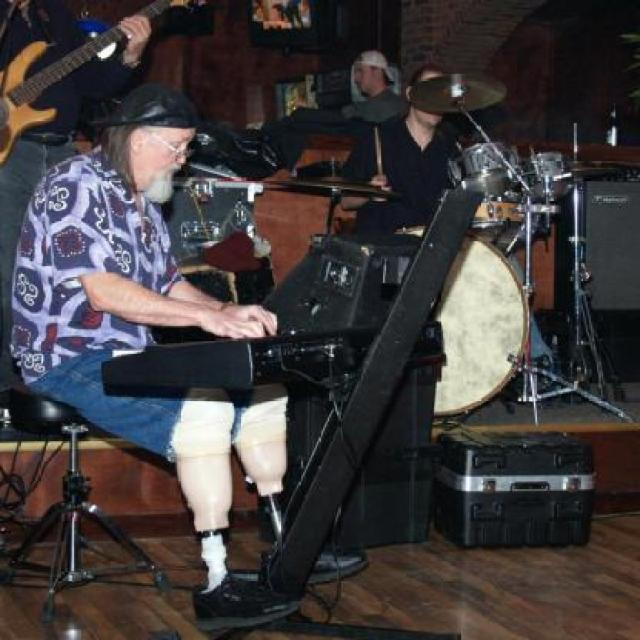Person: (39, 69, 284, 593), (337, 64, 549, 364), (0, 0, 151, 420), (352, 49, 408, 125)
